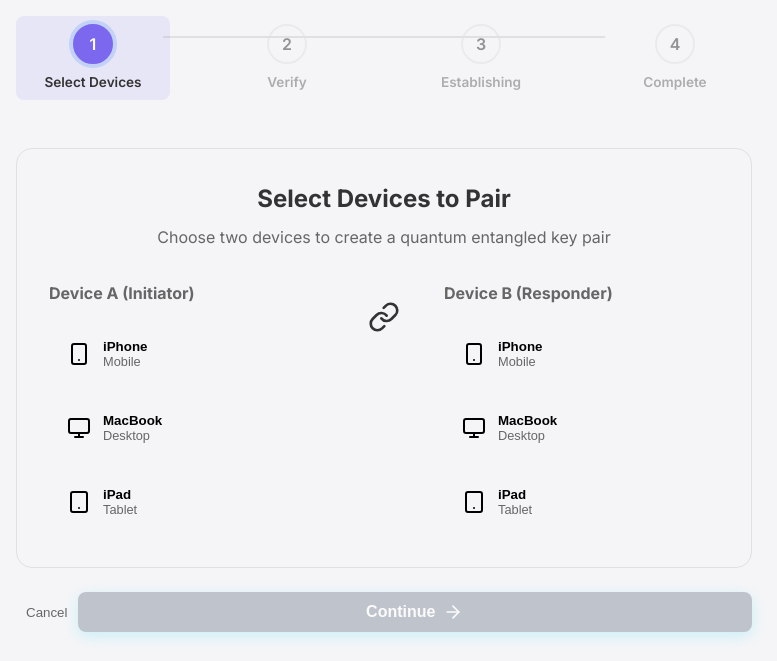
Scenario: DevicePairingFlow › enables continue after selecting both devices
Note: Select first device
Click the text "iPhone" below "Device A (Initiator)".
click(125, 347)  # box [103, 339, 147, 354]
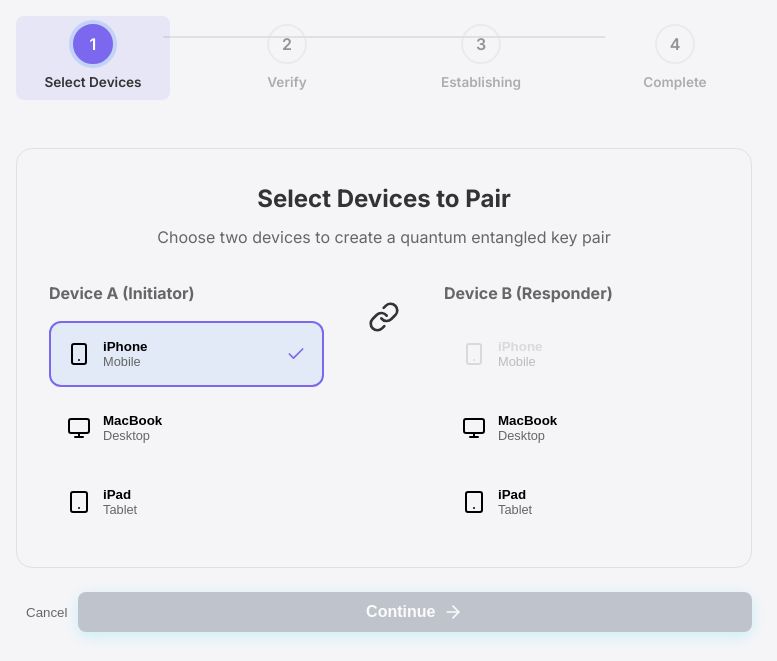
Note: Select second device
Click the text "MacBook" below "Device B (Responder)".
click(528, 421)  # box [498, 413, 557, 428]
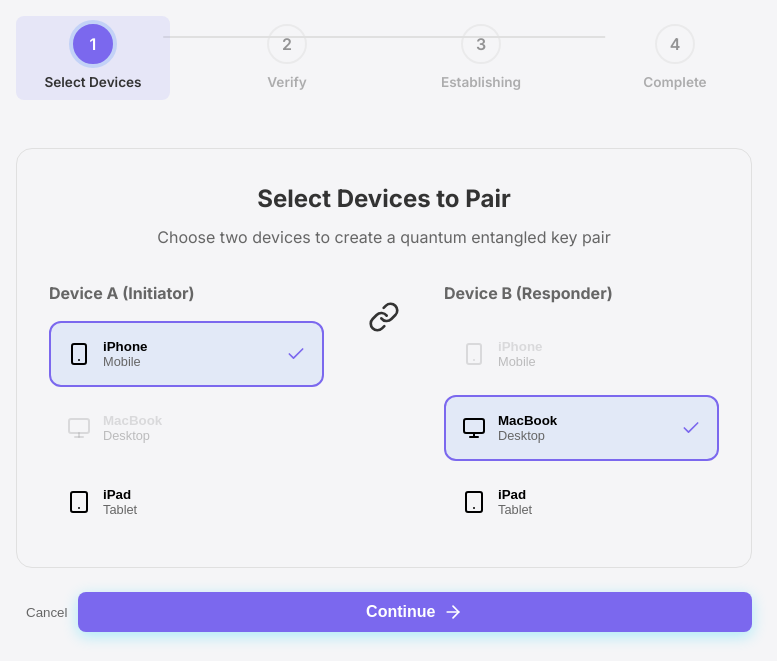
Expected: the button "Continue" is enabled, [78, 592, 752, 632]
